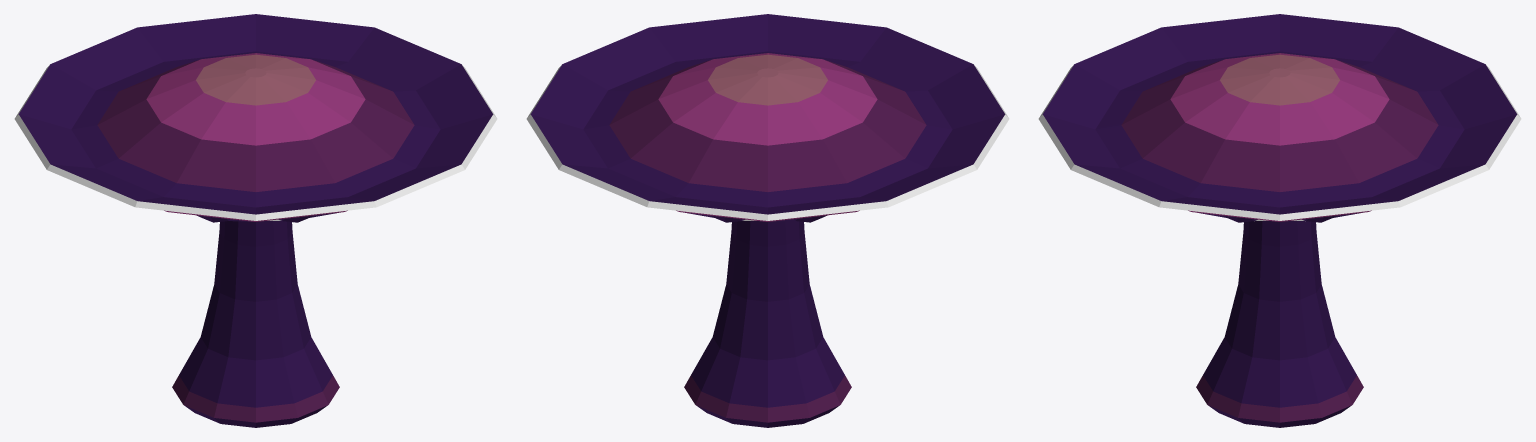
File: MoustacheMushroom_straight.fbx
The picture shows the model from 3 angles, left to right: view 1: azimuth 30°, elevation 25°; view 2: azimuth 150°, elevation 25°; view 3: azimuth 270°, elevation 25°; orthographic projection.
Parts seen in each view (by area): view 1: Cylinder.021; view 2: Cylinder.021; view 3: Cylinder.021.
Part boxes in pixels (x1,y1,x2,y2): Cylinder.021: (14,14,497,427); Cylinder.021: (526,14,1009,427); Cylinder.021: (1038,14,1521,427).
Size of the model in its own units: 907 by 687 by 907.
